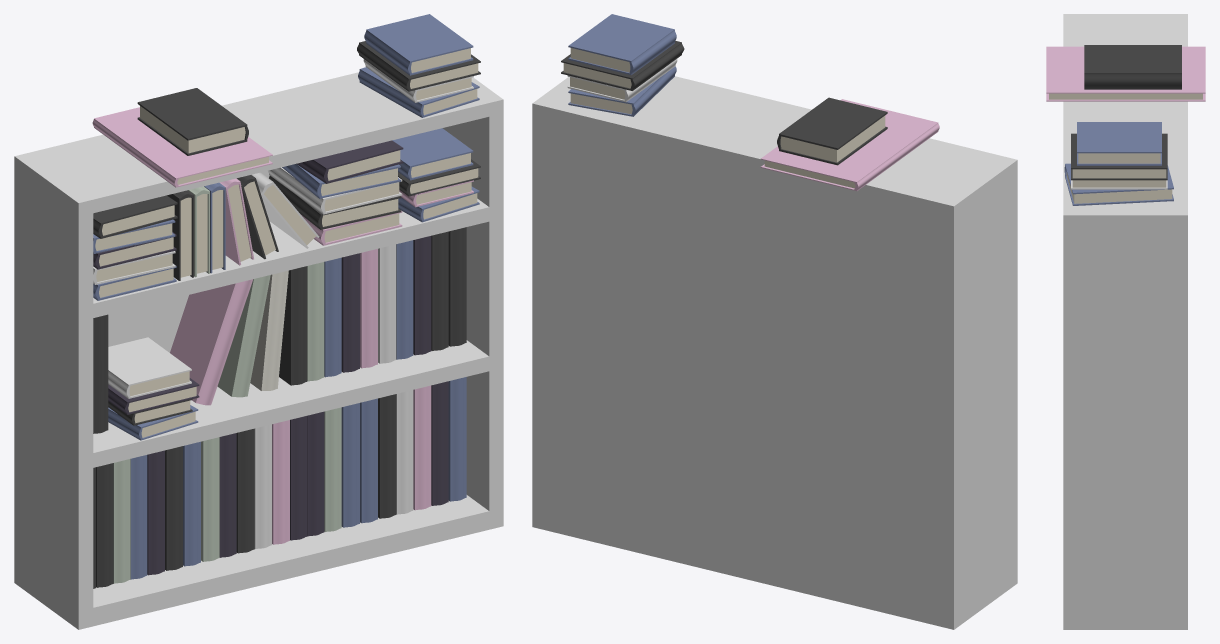
The model's file is Bookshelf3.fbx.
3 views of the same model, side by side, from view 1: azimuth 30°, elevation 25°; view 2: azimuth 150°, elevation 25°; view 3: azimuth 270°, elevation 25° (orthographic). The views are drawn at different scales.
Parts seen in each view (by area): view 1: Bookshelf_3, pCube78, pCube92, pCube79, pCube141, pCube96, pCube91, pCube89, pCube124, pCube90, pCube134, pCube116 (+54 smaller); view 2: Bookshelf_3, pCube78, pCube79, pCube141, pCube142, pCube144, pCube143; view 3: Bookshelf_3, pCube78, pCube79, pCube141, pCube142, pCube144, pCube143.
Part boxes in pixels (left/top/right/bottom): Bookshelf_3: left=14, top=72, right=503, bottom=629; pCube78: left=92, top=107, right=272, bottom=187; pCube92: left=170, top=279, right=252, bottom=405; pCube79: left=137, top=88, right=248, bottom=155; pCube141: left=364, top=14, right=473, bottom=75; pCube96: left=108, top=337, right=191, bottom=398; pCube91: left=217, top=275, right=270, bottom=397; pCube89: left=279, top=266, right=307, bottom=385; pCube124: left=392, top=128, right=473, bottom=180; pCube90: left=250, top=270, right=288, bottom=391; pCube134: left=296, top=140, right=403, bottom=183; pCube116: left=201, top=437, right=219, bottom=561; Bookshelf_3: left=532, top=76, right=1017, bottom=629; pCube78: left=760, top=99, right=939, bottom=191; pCube79: left=777, top=97, right=887, bottom=165; pCube141: left=568, top=14, right=676, bottom=75; pCube142: left=561, top=41, right=684, bottom=90; pCube144: left=568, top=66, right=676, bottom=116; pCube143: left=567, top=59, right=677, bottom=102; Bookshelf_3: left=1063, top=14, right=1187, bottom=629; pCube78: left=1046, top=46, right=1205, bottom=101; pCube79: left=1084, top=45, right=1181, bottom=89; pCube141: left=1077, top=122, right=1161, bottom=165; pCube142: left=1071, top=133, right=1167, bottom=180; pCube144: left=1064, top=163, right=1173, bottom=205; pCube143: left=1071, top=180, right=1167, bottom=189.
Size of the model in its own units: 3.3 by 3.57 by 1.1.
